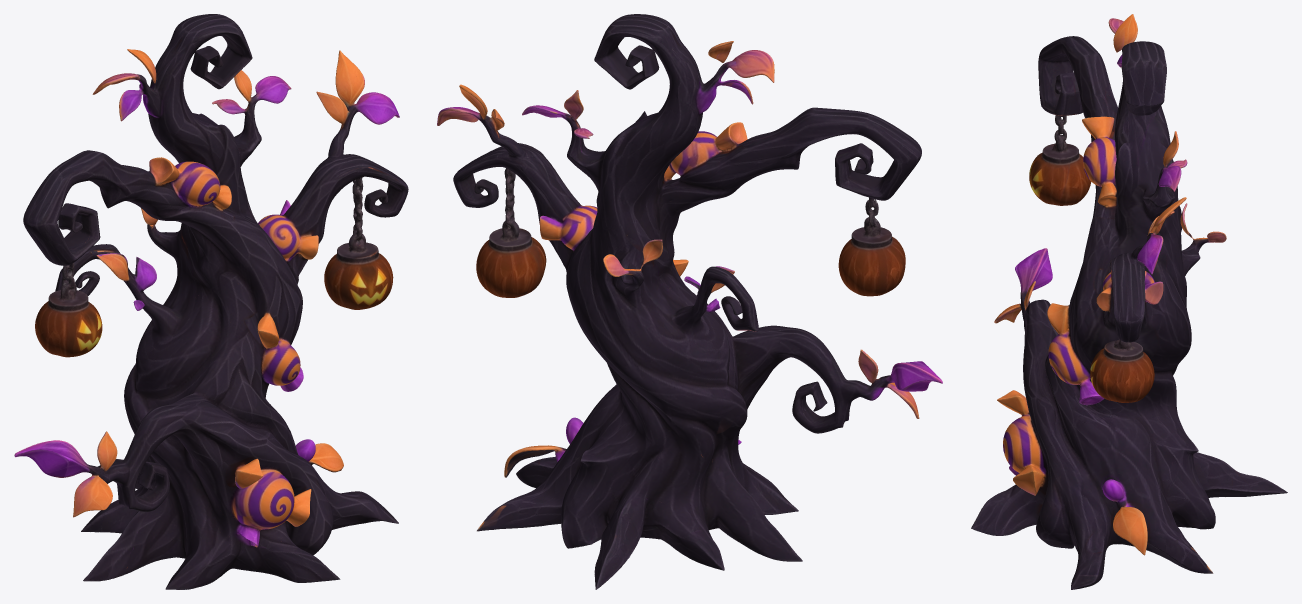
Rendered from Chaseween_Candy_Tree.glb.
3 views of the same model, side by side, from view 1: azimuth 30°, elevation 25°; view 2: azimuth 150°, elevation 25°; view 3: azimuth 270°, elevation 25° (orthographic). The views are drawn at different scales.
Bounding box in the file's own units: 1.71 × 1.9 × 1.15.
1 material, 1 textured.
